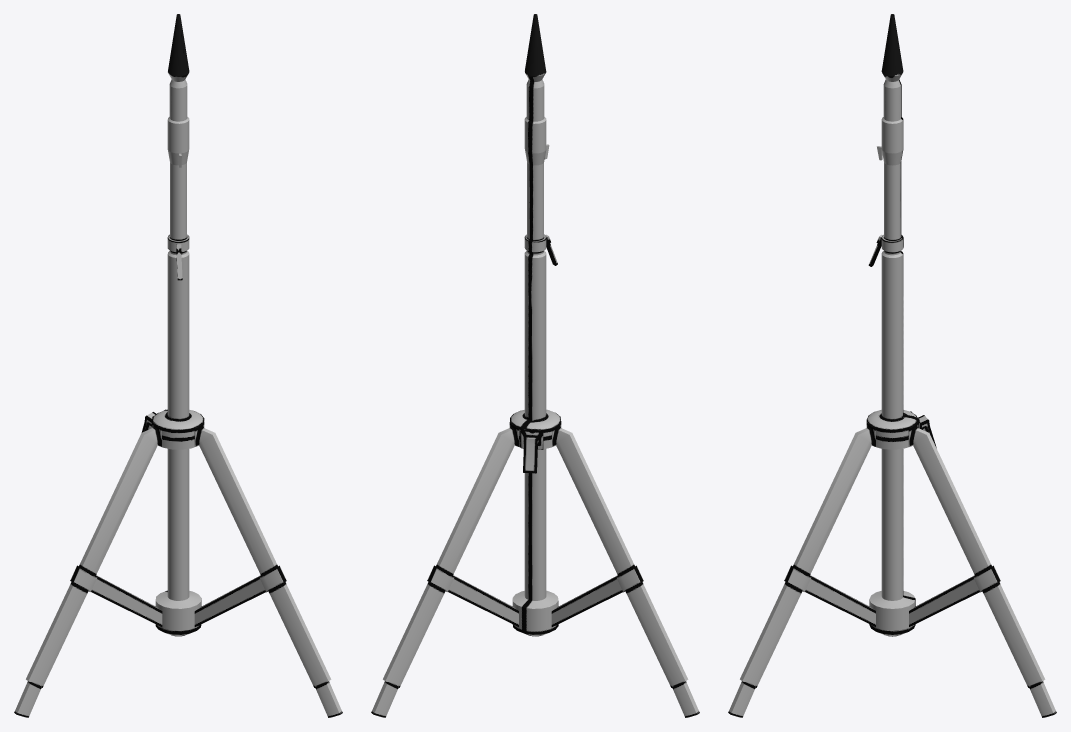
Rendered from drumsetV4_CrashSymbalRest.obj.
The picture shows the model from 3 angles, left to right: view 1: azimuth 30°, elevation 25°; view 2: azimuth 150°, elevation 25°; view 3: azimuth 270°, elevation 25°; orthographic projection.
Visible parts, largest first — view 1: drumsetV4_CrashSymbalRest_Cylinder.025; view 2: drumsetV4_CrashSymbalRest_Cylinder.025; view 3: drumsetV4_CrashSymbalRest_Cylinder.025.
Part boxes in pixels (left/top/right/bottom): drumsetV4_CrashSymbalRest_Cylinder.025: left=14, top=14, right=342, bottom=717; drumsetV4_CrashSymbalRest_Cylinder.025: left=371, top=14, right=699, bottom=717; drumsetV4_CrashSymbalRest_Cylinder.025: left=728, top=14, right=1056, bottom=717.
Bounding box in the file's own units: 1.07 × 2.74 × 1.23.
